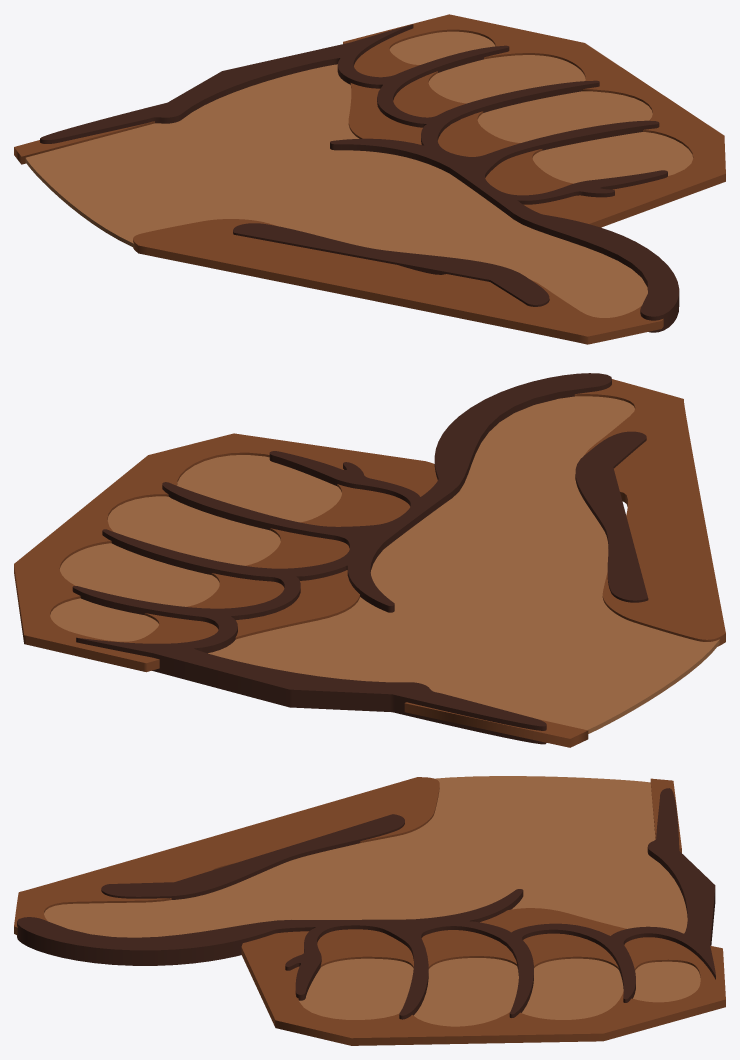
Rendered from emoji_u1f44e_1f3fe.glb.
The picture shows the model from 3 angles, top to bottom: view 1: azimuth 30°, elevation 25°; view 2: azimuth 150°, elevation 25°; view 3: azimuth 270°, elevation 25°; orthographic projection. The views are drawn at different scales.
Visible parts, largest first — view 1: emoji_u1f44e_1f3fe; view 2: emoji_u1f44e_1f3fe; view 3: emoji_u1f44e_1f3fe.
Part boxes in pixels (x1,y1,x2,y2): emoji_u1f44e_1f3fe: (14,14,725,344); emoji_u1f44e_1f3fe: (14,373,725,747); emoji_u1f44e_1f3fe: (14,776,725,1045).
Size of the model in its own units: 0.0292 by 0.0008 by 0.0332.
